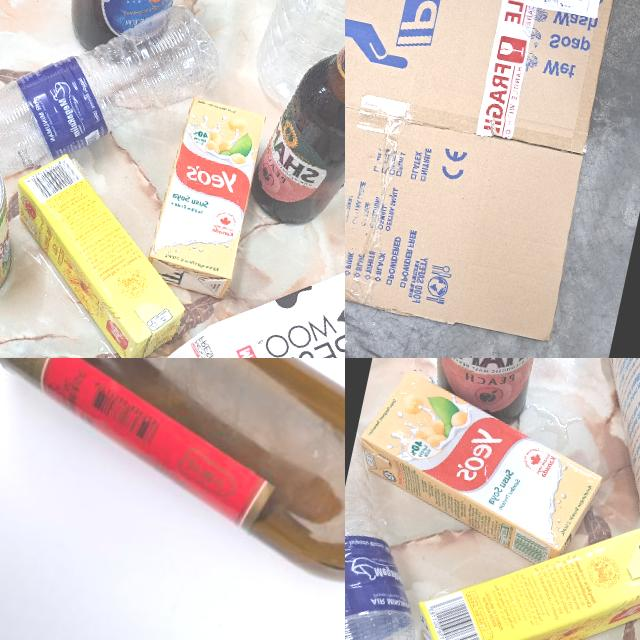caixinha: (345, 362, 617, 573), (0, 147, 214, 358), (401, 485, 640, 640), (119, 207, 345, 358), (143, 96, 267, 295), (546, 358, 640, 615)
garrafa de vidro: (0, 358, 345, 640), (238, 0, 345, 246), (41, 0, 207, 67), (412, 358, 546, 427)
garrafa plástica: (0, 0, 227, 219), (345, 421, 468, 640), (243, 0, 345, 137)
lata: (0, 133, 31, 325)
papelão: (345, 0, 640, 351)
